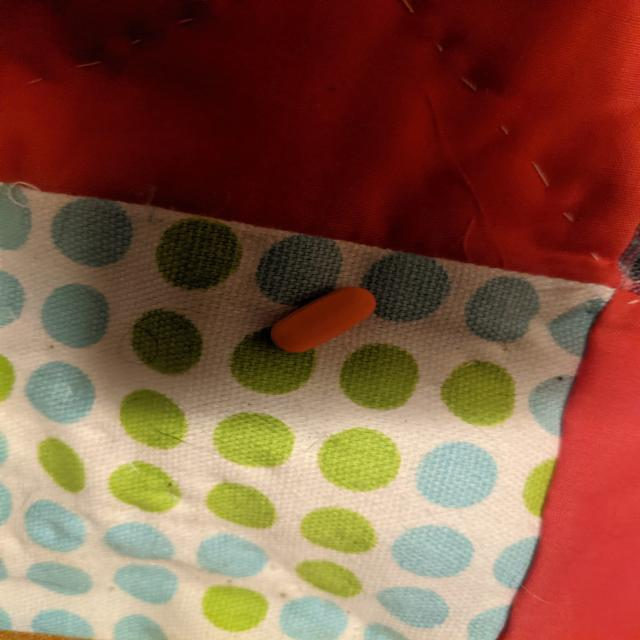non-organic waste: (268, 286, 378, 354)
